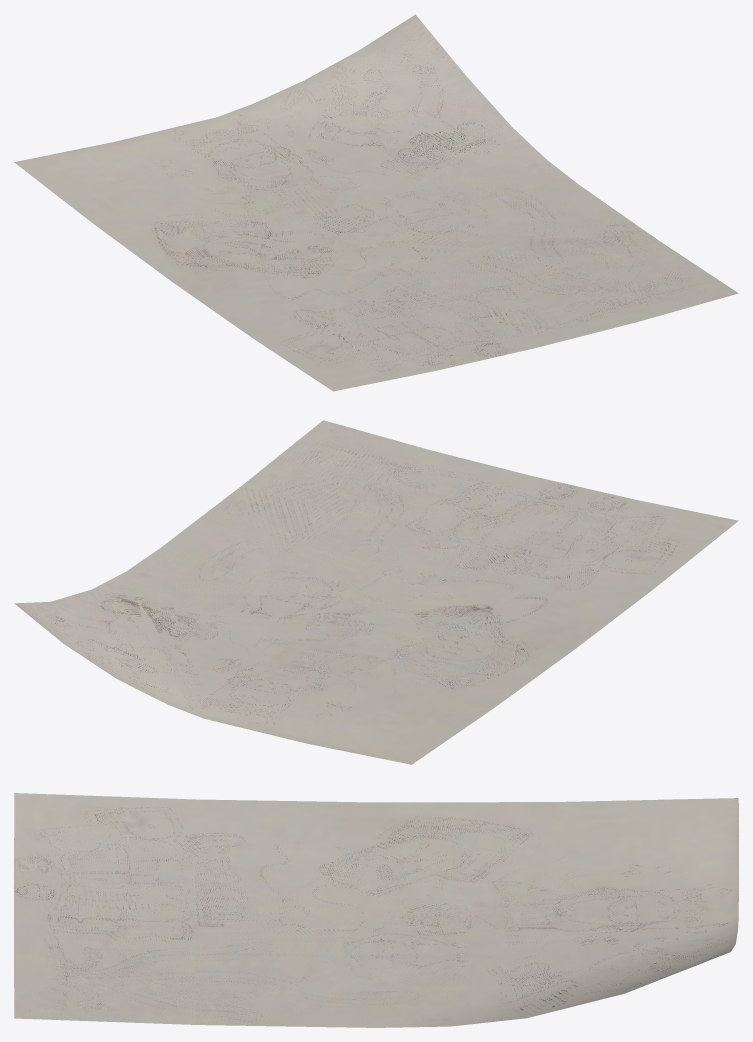
Rendered from sketches_amy02.dae.
3 views of the same model, one above another, from view 1: azimuth 30°, elevation 25°; view 2: azimuth 150°, elevation 25°; view 3: azimuth 270°, elevation 25° (orthographic). The views are drawn at different scales.
Visible parts, largest first — view 1: 02; view 2: 02; view 3: 02.
Part boxes in pixels (x1,y1,x2,y2): 02: [14, 14, 738, 391]; 02: [14, 420, 738, 764]; 02: [14, 793, 738, 1027].
Bounding box in the file's own units: 0.3849 × 0.0598 × 0.5251.
